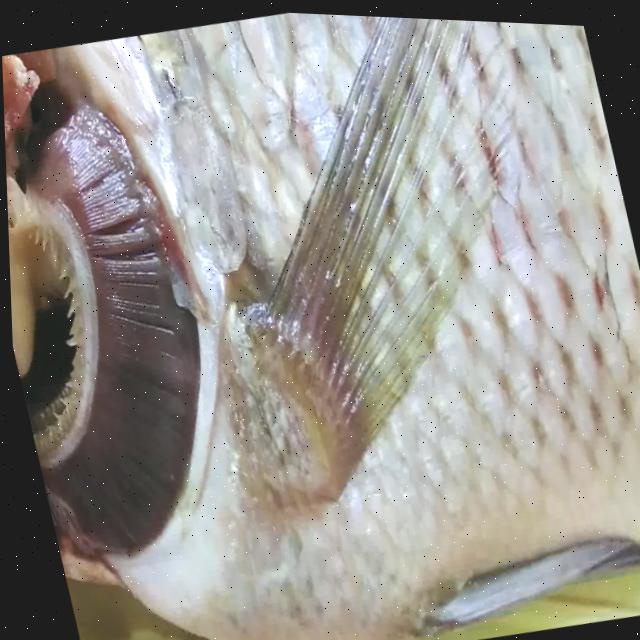Non-Fresh: (2, 85, 256, 615)
